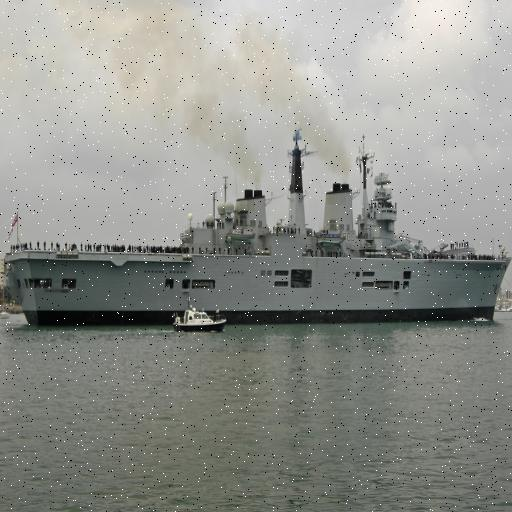Portanaves: (3, 119, 512, 330)
